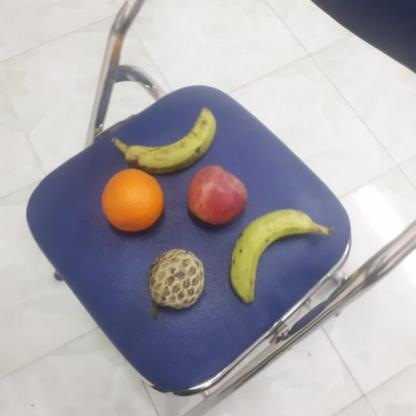annona: (145, 245, 209, 310)
apple: (184, 162, 249, 227)
banana: (226, 208, 316, 302), (118, 105, 219, 174)
orange: (98, 167, 167, 235)
